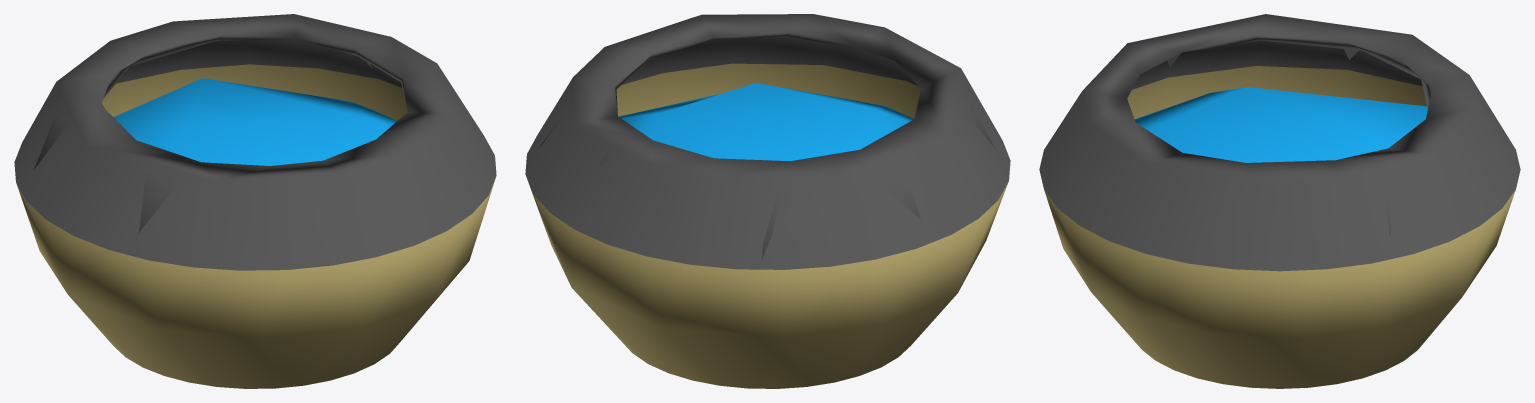
Rendered from BathPra .fbx.
3 views of the same model, side by side, from view 1: azimuth 30°, elevation 25°; view 2: azimuth 150°, elevation 25°; view 3: azimuth 270°, elevation 25° (orthographic).
Visible parts, largest first — view 1: Circle, Sphere; view 2: Circle, Sphere; view 3: Circle, Sphere.
Boxes of the visible parts, x1,y1,x2,y2 form: Circle: [14, 14, 496, 388]; Sphere: [113, 78, 396, 165]; Circle: [525, 14, 1010, 388]; Sphere: [619, 83, 914, 161]; Circle: [1039, 14, 1520, 388]; Sphere: [1134, 87, 1427, 162].
Size of the model in its own units: 322 by 168 by 322.
